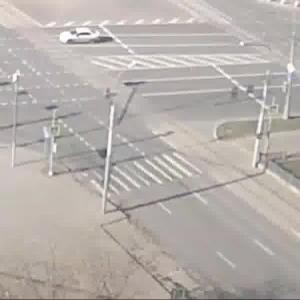car: (57, 28, 103, 47)
